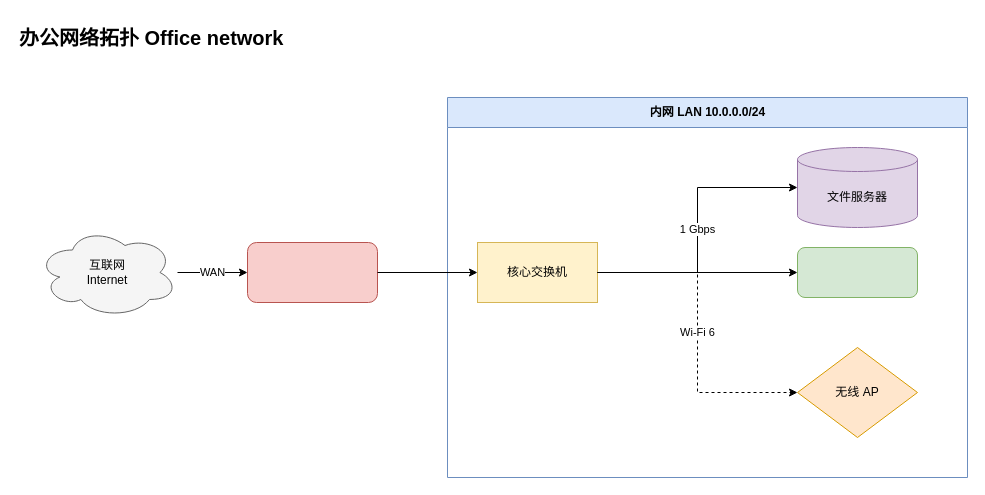
The diagram is 985 pixels wide and 495 high, and some of its shapes have lost their labels. Each missing label, with the centre of its shape:
"办公电脑 ×40" goes at point 857,272.
"防火墙 Firewall" goes at point 312,272.
